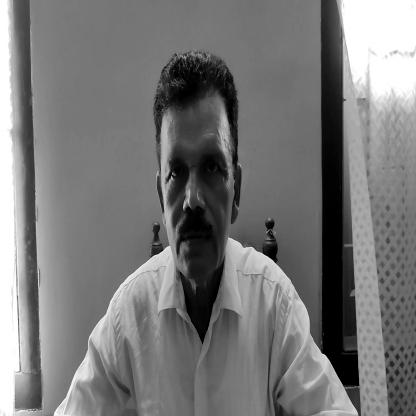Normal: (151, 51, 244, 280)
